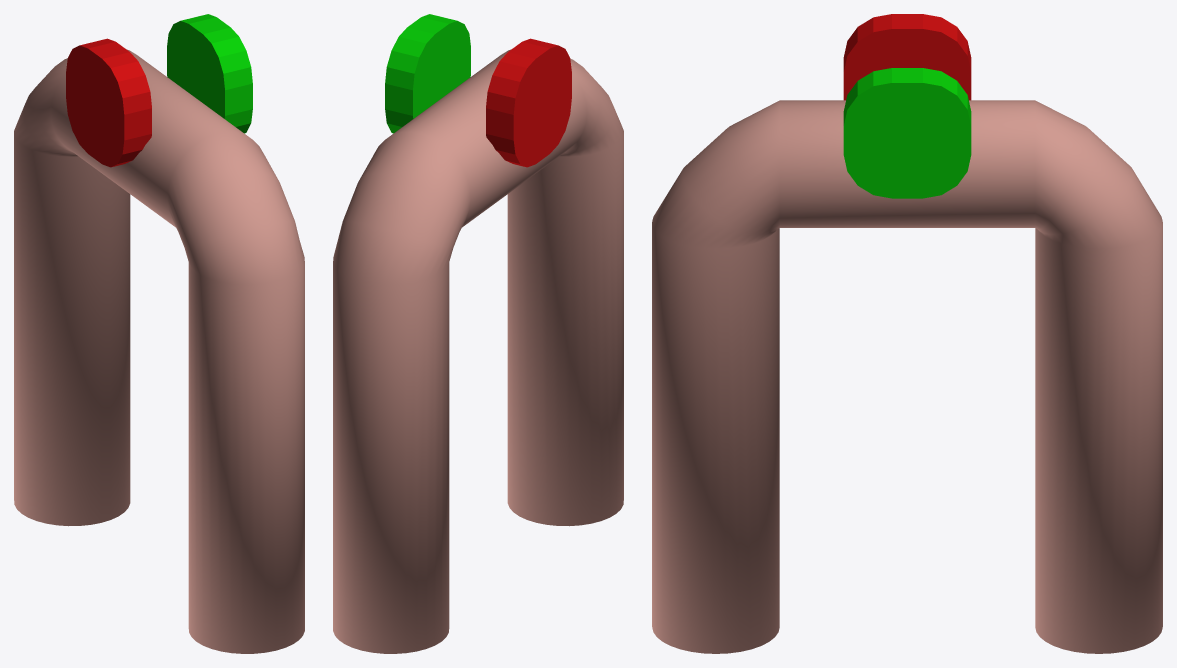
File: gate.obj
The picture shows the model from 3 angles, left to right: view 1: azimuth 30°, elevation 25°; view 2: azimuth 150°, elevation 25°; view 3: azimuth 270°, elevation 25°; orthographic projection. The views are drawn at different scales.
Parts seen in each view (by area): view 1: Cylinder, Cylinder.001, Cylinder.002; view 2: Cylinder, Cylinder.001, Cylinder.002; view 3: Cylinder, Cylinder.002, Cylinder.001.
Part boxes in pixels (<box>): Cylinder: <box>14,49,304,653</box>; Cylinder.001: <box>66,38,151,167</box>; Cylinder.002: <box>167,14,252,133</box>; Cylinder: <box>333,49,623,653</box>; Cylinder.001: <box>486,38,571,167</box>; Cylinder.002: <box>385,14,470,133</box>; Cylinder: <box>652,100,1162,653</box>; Cylinder.002: <box>843,68,971,198</box>; Cylinder.001: <box>843,14,971,100</box>.
Size of the model in its own units: 2.55 by 10 by 8.
